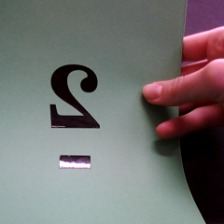green2: (42, 56, 109, 172)
